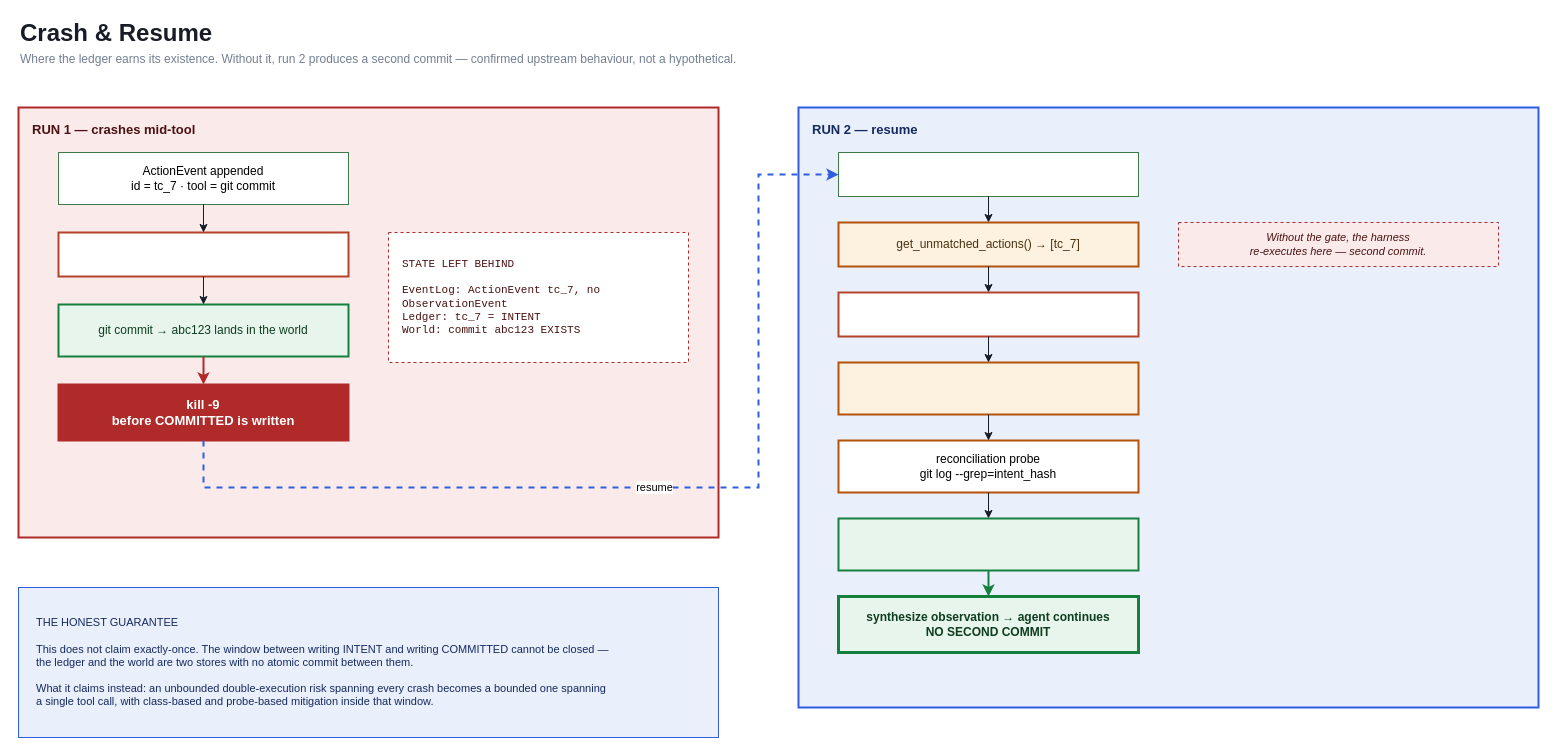
The diagram is 1556 pixels wide and 755 high, and some of its shapes have lost their labels. Here are the shapes that lost their labels. From the top down, the box of each, then its label:
(838, 152, 1138, 196): load base_state.json + events/
(57, 231, 349, 277): ledger: write INTENT tc_7
(837, 291, 1139, 337): ledger.lookup(tc_7) → INTENT · ambiguous
(837, 361, 1139, 415): class = NON_IDEMPOTENT_WRITE → never re-execute on INTENT
(837, 517, 1139, 571): found abc123 → reconcile tc_7 to COMMITTED
